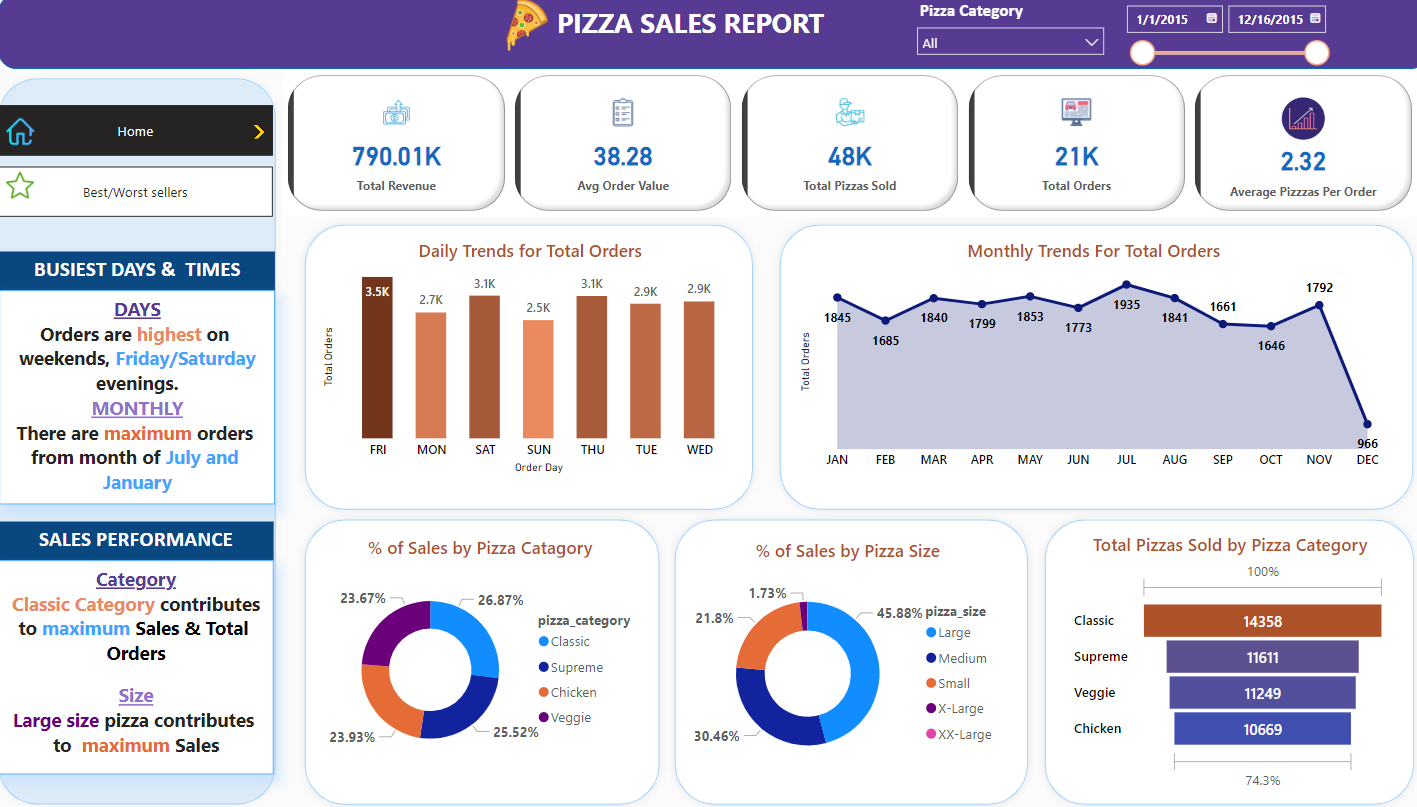

The dashboard page shown, as its layout file describes it:
{"tool":"powerbi","page":{"name":"Home","canvas":[1500,820],"ordinal":0},"visuals":[{"type":"shape","box":[30.3,0,1432.9,75],"z":0},{"type":"shape","box":[22.4,76.3,293.4,743.4],"z":1000},{"type":"cardVisual","fields":{"Data":["pizza_sales.Total Revenue","pizza_sales.Avg Order Value","pizza_sales.Total Pizzas Sold","pizza_sales.Total Orders","pizza_sales.Average Pizzzas Per Order"]},"box":[315.8,76.3,1139.5,146.1],"z":2000},{"type":"textbox","box":[506.6,5.3,432.9,51.3],"z":3000},{"type":"shape","box":[328.9,222.4,464.5,301.3],"z":4000},{"type":"columnChart","title":"Daily Trends for Total Orders","fields":{"Category":["pizza_sales.Order Day"],"Y":["pizza_sales.Total Orders"]},"box":[350,244.7,425,239.5],"z":5000},{"type":"shape","box":[805.3,222.4,650,301.3],"z":6000},{"type":"areaChart","title":"Monthly Trends For Total Orders","fields":{"Category":["pizza_sales.Order Month"],"Y":["pizza_sales.Total Orders"]},"box":[828.9,244.7,597.4,239.5],"z":7000},{"type":"shape","box":[328.9,518.4,371.1,301.3],"z":8000},{"type":"shape","box":[1069.7,518.4,385.5,301.3],"z":9000},{"type":"shape","box":[700,518.4,369.7,301.3],"z":10000},{"type":"donutChart","title":"% of Sales by Pizza Catagory","fields":{"Category":["pizza_sales.pizza_category"],"Y":["pizza_sales.Total Revenue"]},"box":[350,542.1,325,247.4],"z":11000},{"type":"donutChart","title":"% of Sales by Pizza Size","fields":{"Category":["pizza_sales.pizza_size"],"Y":["pizza_sales.Total Revenue"]},"box":[718.4,546.1,325,247.4],"z":12000},{"type":"funnel","title":"Total Pizzas Sold by Pizza Category","fields":{"Category":["pizza_sales.pizza_category"],"Y":["pizza_sales.Total Pizzas Sold"]},"box":[1102.6,539.5,322.4,261.8],"z":13000},{"type":"textbox","box":[31.6,257.6,276.3,39.5],"z":14000},{"type":"textbox","box":[31.6,297.1,276.3,214.5],"z":15000},{"type":"textbox","box":[30.5,527.9,276.3,39.5],"z":16000},{"type":"textbox","box":[30.5,567.4,276.3,214.5],"z":17000},{"type":"slicer","fields":{"Values":["pizza_sales.order_date"]},"box":[1147.4,1.3,231.6,75],"z":18000},{"type":"slicer","fields":{"Values":["pizza_sales.pizza_category"]},"box":[939.5,0,207.9,61.8],"z":19000},{"type":"pageNavigator","box":[30.3,111.8,275,50],"z":20000},{"type":"pageNavigator","box":[30.3,172.4,275,50],"z":21000},{"type":"image","box":[269.7,126.3,36.8,23.7],"z":22000},{"type":"image","box":[31.6,118.4,42.1,38.2],"z":23000},{"type":"image","box":[30.3,172.4,43.4,38.2],"z":24000},{"type":"image","box":[446.1,0,228.9,61.8],"z":25000}]}

Visuals, with their boxes on the page's 1500x820 design canvas (x1, y1, x2, y2). These are canvas units, not pixel positions in the 1417x807 screenshot, which may show the page scaled, cropped or inside an application window:
shape: {"left": 30, "top": 0, "right": 1463, "bottom": 75}
shape: {"left": 22, "top": 76, "right": 316, "bottom": 820}
cardVisual - pizza_sales.Total Revenue x pizza_sales.Avg Order Value: {"left": 316, "top": 76, "right": 1455, "bottom": 222}
textbox: {"left": 507, "top": 5, "right": 940, "bottom": 57}
shape: {"left": 329, "top": 222, "right": 793, "bottom": 524}
"Daily Trends for Total Orders" columnChart: {"left": 350, "top": 245, "right": 775, "bottom": 484}
shape: {"left": 805, "top": 222, "right": 1455, "bottom": 524}
"Monthly Trends For Total Orders" areaChart: {"left": 829, "top": 245, "right": 1426, "bottom": 484}
shape: {"left": 329, "top": 518, "right": 700, "bottom": 820}
shape: {"left": 1070, "top": 518, "right": 1455, "bottom": 820}
shape: {"left": 700, "top": 518, "right": 1070, "bottom": 820}
"% of Sales by Pizza Catagory" donutChart: {"left": 350, "top": 542, "right": 675, "bottom": 790}
"% of Sales by Pizza Size" donutChart: {"left": 718, "top": 546, "right": 1043, "bottom": 794}
"Total Pizzas Sold by Pizza Category" funnel: {"left": 1103, "top": 540, "right": 1425, "bottom": 801}
textbox: {"left": 32, "top": 258, "right": 308, "bottom": 297}
textbox: {"left": 32, "top": 297, "right": 308, "bottom": 512}
textbox: {"left": 30, "top": 528, "right": 307, "bottom": 567}
textbox: {"left": 30, "top": 567, "right": 307, "bottom": 782}
slicer - pizza_sales.order_date: {"left": 1147, "top": 1, "right": 1379, "bottom": 76}
slicer - pizza_sales.pizza_category: {"left": 940, "top": 0, "right": 1147, "bottom": 62}
pageNavigator: {"left": 30, "top": 112, "right": 305, "bottom": 162}
pageNavigator: {"left": 30, "top": 172, "right": 305, "bottom": 222}
image: {"left": 270, "top": 126, "right": 306, "bottom": 150}
image: {"left": 32, "top": 118, "right": 74, "bottom": 157}
image: {"left": 30, "top": 172, "right": 74, "bottom": 211}
image: {"left": 446, "top": 0, "right": 675, "bottom": 62}
